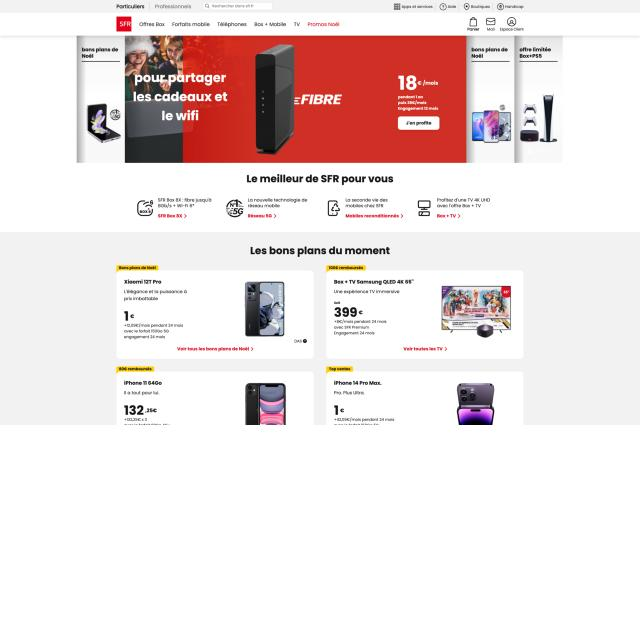input: (204, 2, 274, 10)
logo: (116, 16, 132, 32)
navigation: (139, 21, 342, 29), (390, 2, 526, 12)
